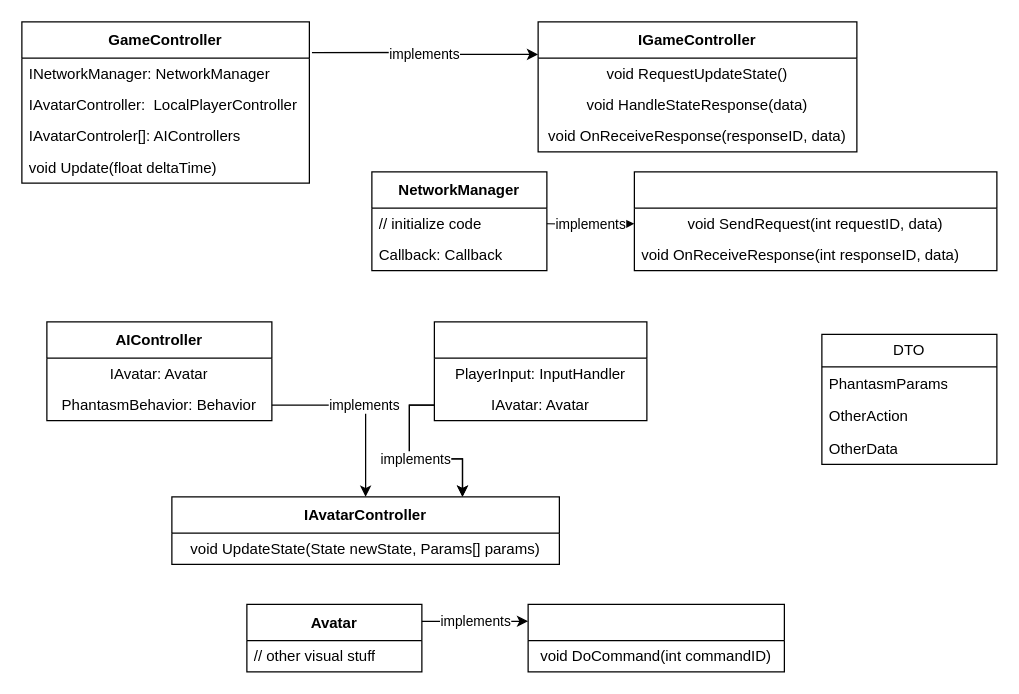
The diagram is 1019 pixels wide and 694 high, and some of its shapes have lost their labels. Here are the shapes that lost their labels. From the top down, the box of each, then its label:
(633, 171, 997, 271): INetworkManager
(433, 321, 647, 421): PlayerController
(527, 603, 784, 672): IAvatar
